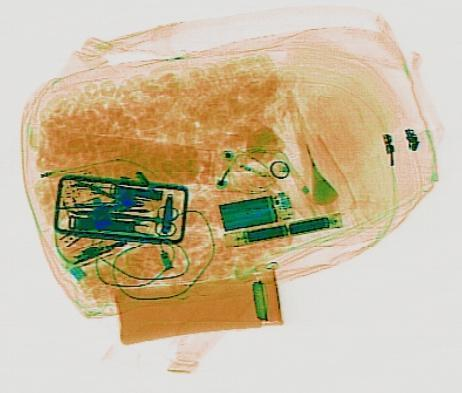Scissors: (117, 200, 180, 236)
